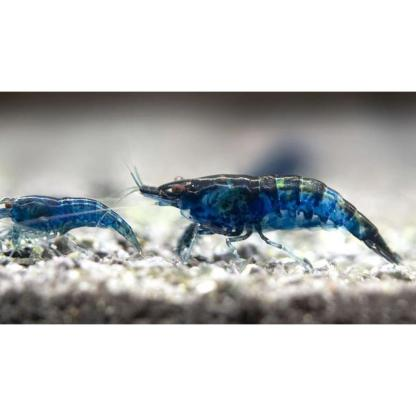shrimp: (134, 175, 402, 271), (2, 195, 145, 258)
